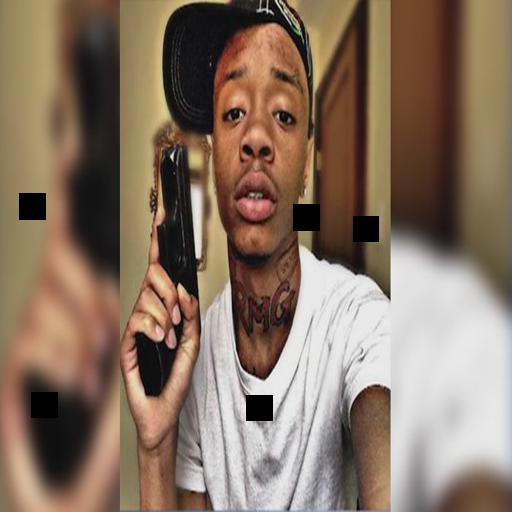Handgun: (136, 144, 202, 388)
